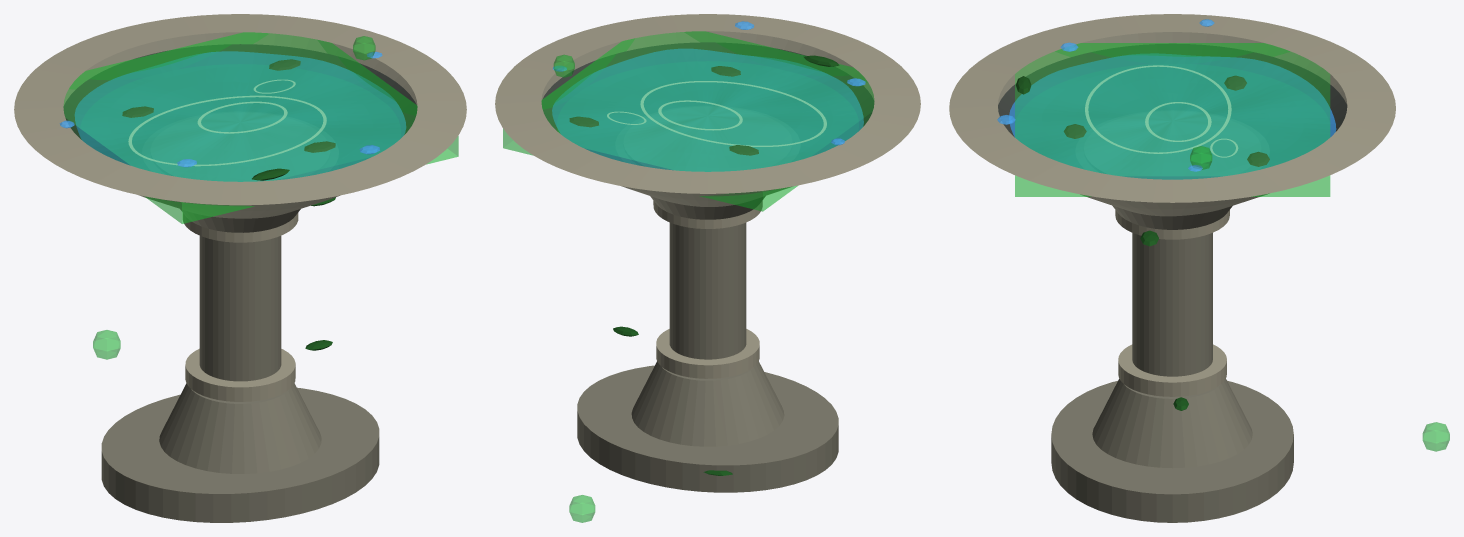
Rendered from garden_birdbath_full_of_water.obj.
3 renders of one model, left to right at view 1: azimuth 30°, elevation 25°; view 2: azimuth 150°, elevation 25°; view 3: azimuth 270°, elevation 25°, orthographic. The views are drawn at different scales.
Parts seen in each view (by area): view 1: Guide_Water_Source_Trigger_delete_or_hide, Transparent_rippled_water_surface_full_birdbath, Birdbath_bowl_thick_rounded_outer_rim, Round_ground_base_stone, Tall_carved_center_pedestal_column, Lower_flared_pedestal_foot, Birdbath_bowl_inner_wet_stone_basin, Birdbath_bowl_outer_shallow_stone_basin, Pedestal_lower_ring_band, Upper_flared_pedestal_support, Pedestal_upper_ring_band, Water_ripple_ring_wide (+1 smaller); view 2: Guide_Water_Source_Trigger_delete_or_hide, Transparent_rippled_water_surface_full_birdbath, Birdbath_bowl_thick_rounded_outer_rim, Round_ground_base_stone, Tall_carved_center_pedestal_column, Lower_flared_pedestal_foot, Birdbath_bowl_inner_wet_stone_basin, Birdbath_bowl_outer_shallow_stone_basin, Pedestal_lower_ring_band, Upper_flared_pedestal_support, Pedestal_upper_ring_band, Water_ripple_ring_wide (+1 smaller); view 3: Guide_Water_Source_Trigger_delete_or_hide, Transparent_rippled_water_surface_full_birdbath, Birdbath_bowl_thick_rounded_outer_rim, Round_ground_base_stone, Tall_carved_center_pedestal_column, Lower_flared_pedestal_foot, Birdbath_bowl_inner_wet_stone_basin, Birdbath_bowl_outer_shallow_stone_basin, Pedestal_lower_ring_band, Upper_flared_pedestal_support, Pedestal_upper_ring_band, Water_ripple_ring_wide (+1 smaller).
Part boxes in pixels (x1,y1,x2,y2): Guide_Water_Source_Trigger_delete_or_hide: (63, 32, 458, 223); Transparent_rippled_water_surface_full_birdbath: (74, 51, 406, 181); Birdbath_bowl_thick_rounded_outer_rim: (14, 14, 466, 205); Round_ground_base_stone: (101, 387, 379, 522); Tall_carved_center_pedestal_column: (199, 236, 281, 381); Lower_flared_pedestal_foot: (159, 383, 321, 473); Birdbath_bowl_inner_wet_stone_basin: (63, 44, 417, 139); Birdbath_bowl_outer_shallow_stone_basin: (63, 32, 417, 218); Pedestal_lower_ring_band: (185, 348, 295, 401); Upper_flared_pedestal_support: (180, 209, 300, 232); Pedestal_upper_ring_band: (183, 213, 298, 242); Water_ripple_ring_wide: (128, 95, 326, 166); Guide_Water_Source_Trigger_delete_or_hide: (503, 31, 874, 211); Transparent_rippled_water_surface_full_birdbath: (552, 48, 863, 171); Birdbath_bowl_thick_rounded_outer_rim: (495, 14, 920, 193); Round_ground_base_stone: (577, 365, 838, 492); Tall_carved_center_pedestal_column: (669, 222, 746, 359); Lower_flared_pedestal_foot: (631, 361, 784, 446); Birdbath_bowl_inner_wet_stone_basin: (541, 42, 874, 133); Birdbath_bowl_outer_shallow_stone_basin: (541, 31, 874, 206); Pedestal_lower_ring_band: (656, 329, 759, 378); Upper_flared_pedestal_support: (650, 196, 765, 219); Pedestal_upper_ring_band: (653, 200, 762, 228); Water_ripple_ring_wide: (640, 81, 826, 146); Guide_Water_Source_Trigger_delete_or_hide: (1015, 43, 1330, 196); Transparent_rippled_water_surface_full_birdbath: (1009, 53, 1336, 179); Birdbath_bowl_thick_rounded_outer_rim: (949, 14, 1395, 202); Round_ground_base_stone: (1051, 381, 1293, 522); Tall_carved_center_pedestal_column: (1132, 233, 1212, 376); Lower_flared_pedestal_foot: (1092, 378, 1252, 468); Birdbath_bowl_inner_wet_stone_basin: (998, 44, 1347, 137); Birdbath_bowl_outer_shallow_stone_basin: (998, 32, 1347, 216); Pedestal_lower_ring_band: (1118, 344, 1226, 396); Upper_flared_pedestal_support: (1112, 205, 1232, 229); Pedestal_upper_ring_band: (1115, 210, 1229, 239); Water_ripple_ring_wide: (1085, 65, 1231, 153).
Size of what is drawn, in the model's own units: 1.56 by 1.48 by 1.75.
